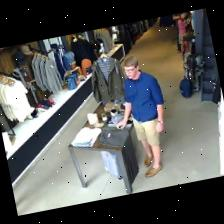person: (117, 57, 163, 177), (177, 12, 190, 48), (172, 14, 180, 53)
